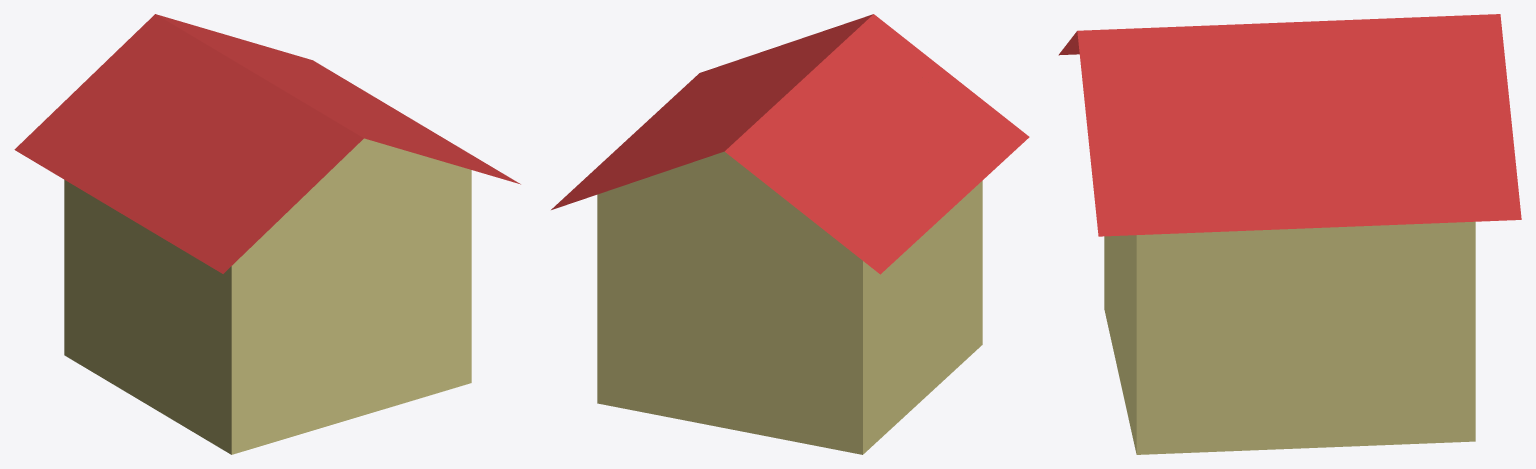
3 views of the same model, side by side, from view 1: azimuth 30°, elevation 25°; view 2: azimuth 150°, elevation 25°; view 3: azimuth 270°, elevation 25° (orthographic). The views are drawn at different scales.
Bounding box in the file's own units: 11.1 × 10.97 × 9.08.
